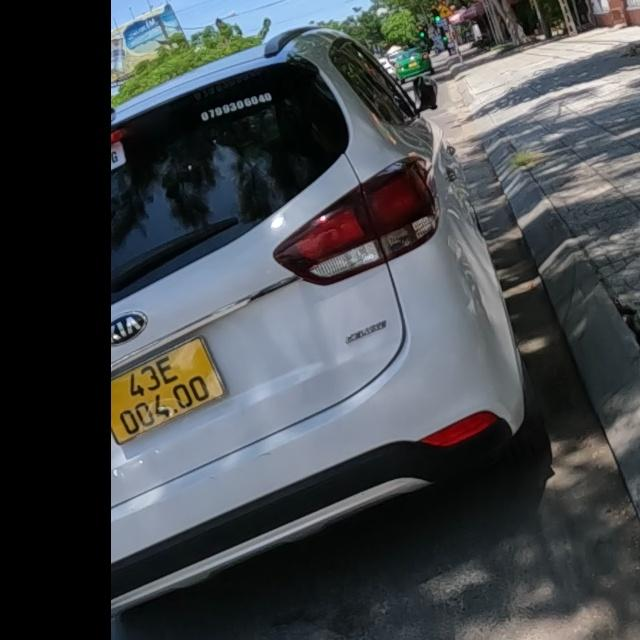license-plate: (111, 335, 228, 448)
